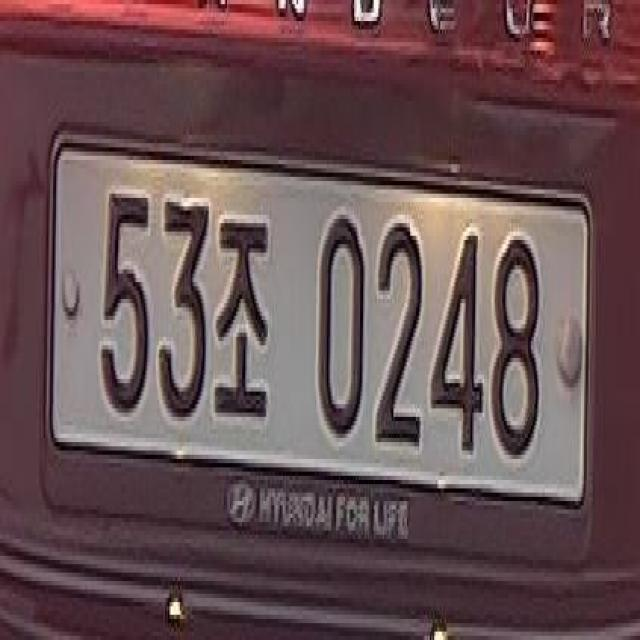0: (310, 190, 372, 464)
2: (372, 208, 426, 470)
3: (156, 182, 205, 426)
4: (426, 226, 484, 473)
5: (98, 174, 150, 426)
8: (484, 234, 548, 471)
jo: (216, 204, 268, 444)
license_plate: (31, 123, 615, 552)
